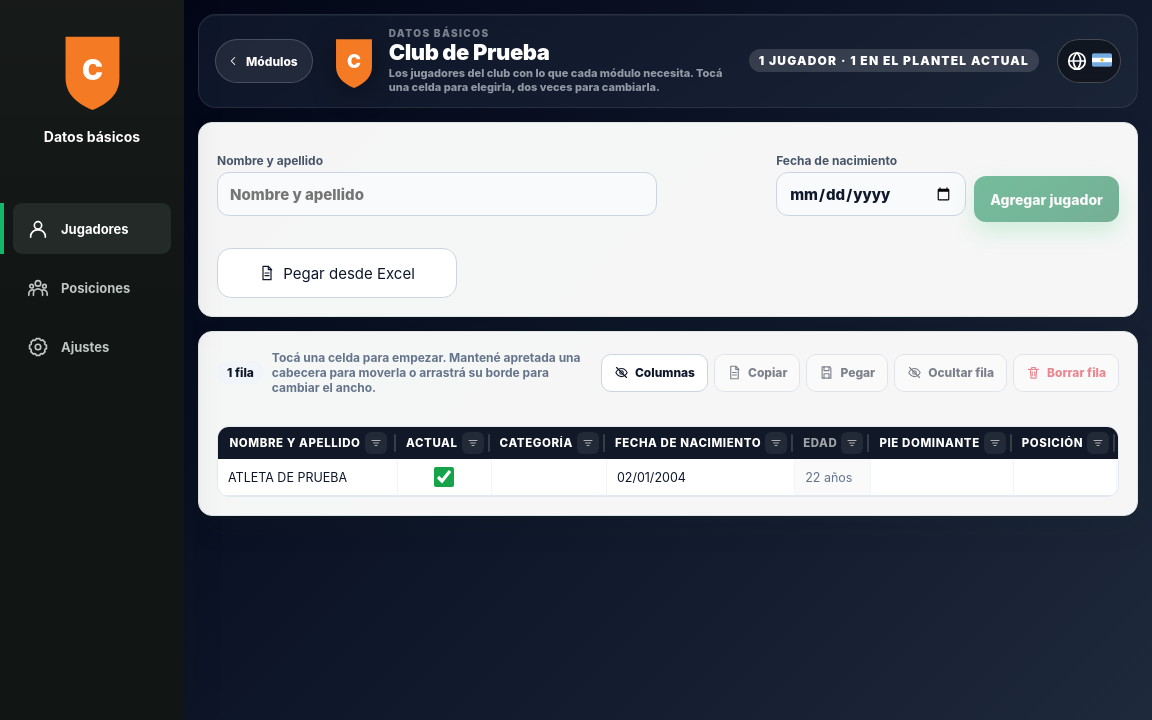
Test: el módulo Datos básicos › Ver ficha: el administrador baja todos los datos de un atleta, en Excel y en JSON; el resto no la ve
Click the cell "ATLETA DE PRUEBA".
click(308, 478)  # box [218,459,398,496]
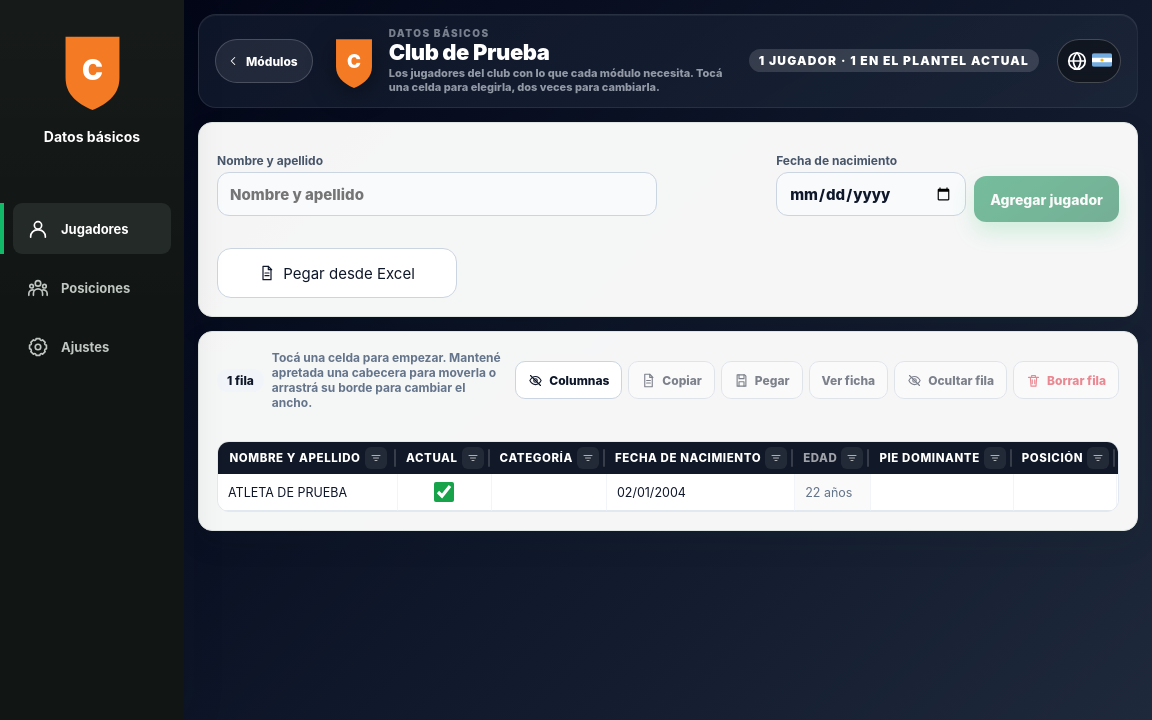
Click the cell "ATLETA DE PRUEBA".
click(308, 493)  # box [218,474,398,511]
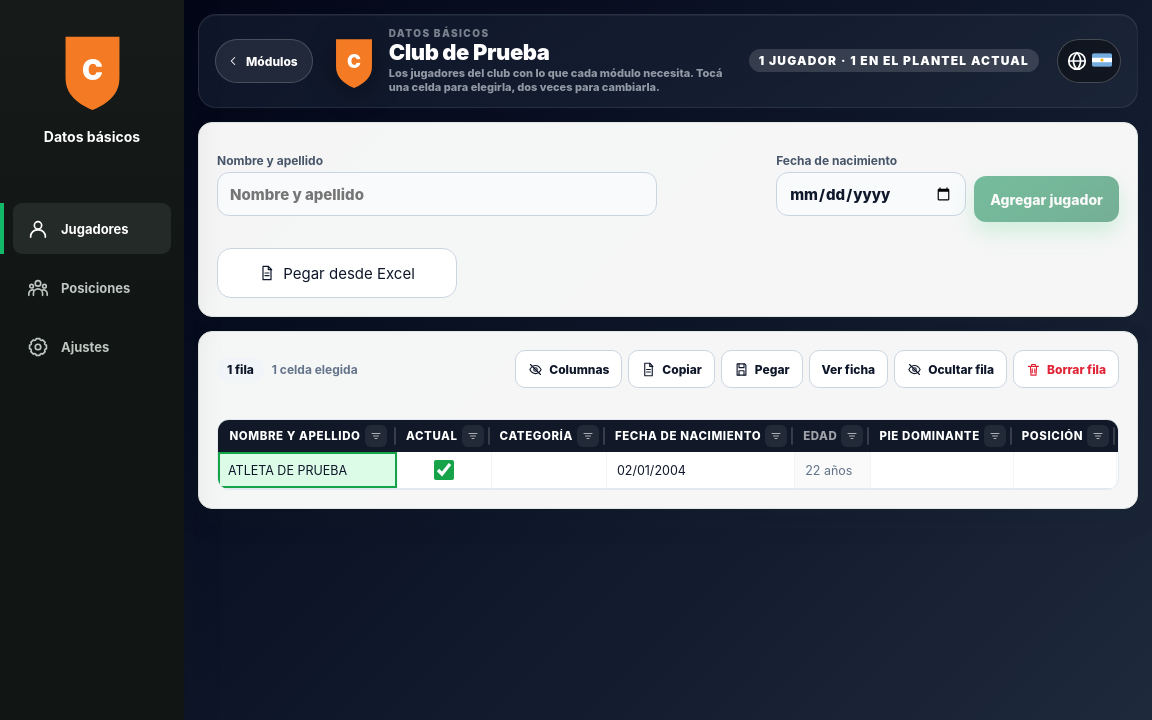
Check: the button "Ver ficha" is shown
Click the button "Ver ficha".
click(848, 369)  # box [808,350,888,388]
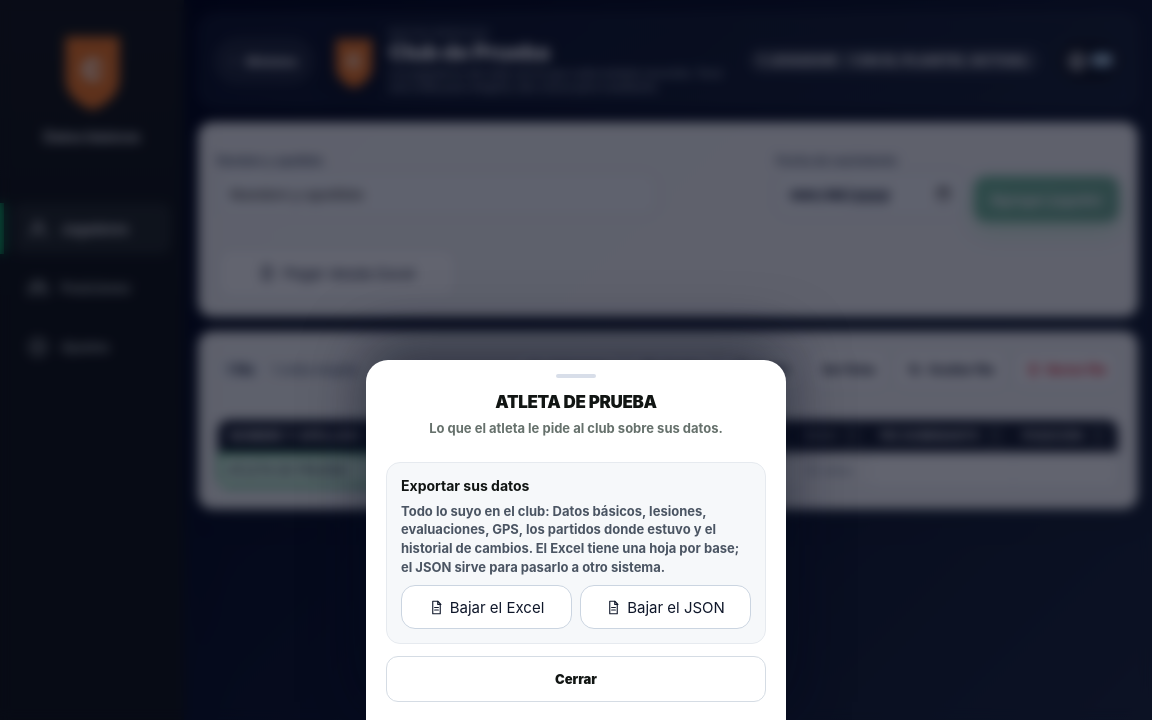
Check: the heading "ATLETA DE PRUEBA" is shown, box [495,392,657,412]
Check: the dialog with class "ficha-atleta" shows "Exportar sus datos", box [401,477,529,494]
Check: the button "Bajar el Excel" is shown
Click the button "Bajar el Excel".
click(486, 607)  # box [401,585,572,629]
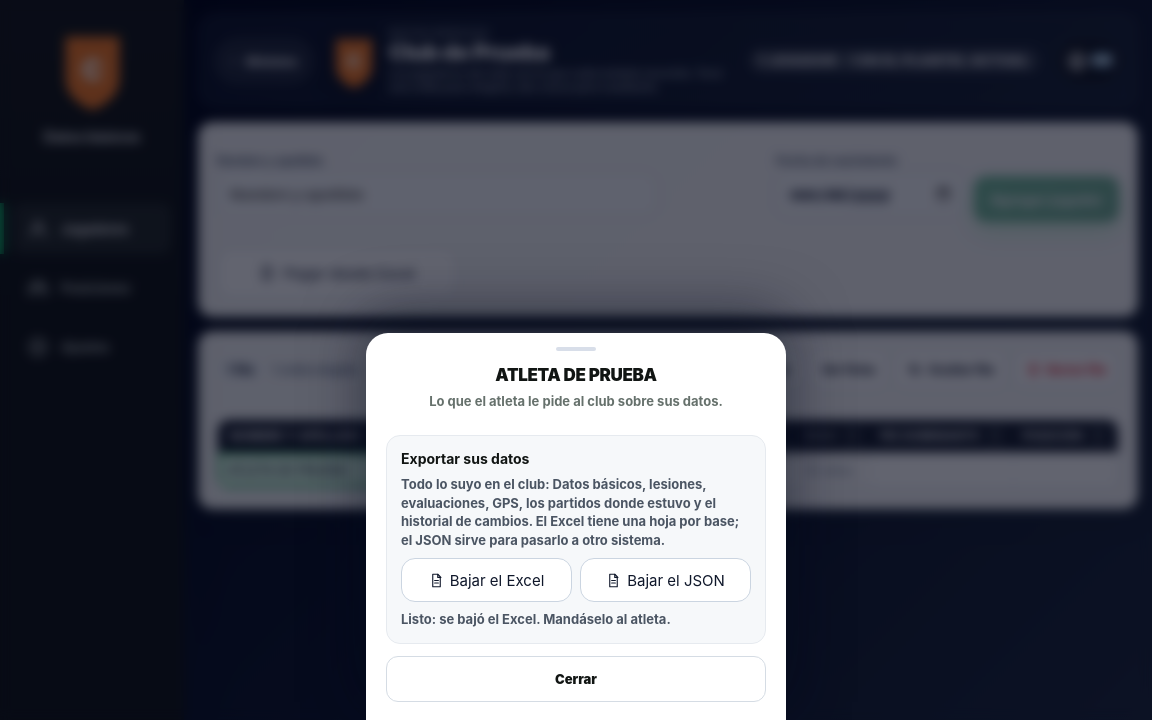
Check: the button "Bajar el JSON" is shown
Check: the dialog with class "ficha-atleta" shows "Listo: se bajó el Excel. Mandáselo al atleta.", box [401,611,671,627]
Click the button "Bajar el JSON".
click(666, 580)  # box [580,558,751,602]
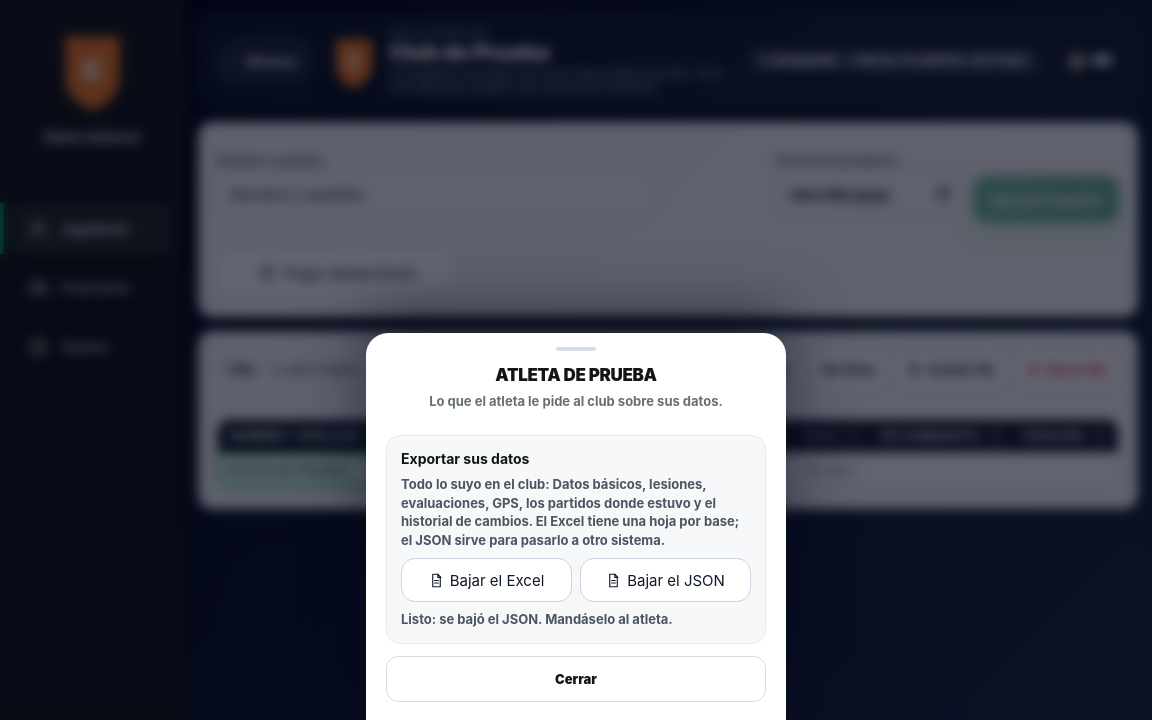
Check: the cell "ATLETA DE PRUEBA" is shown, box [218,452,398,489]
Check: the button "Cerrar" is shown
Click the button "Cerrar".
click(576, 679)  # box [386,656,766,702]
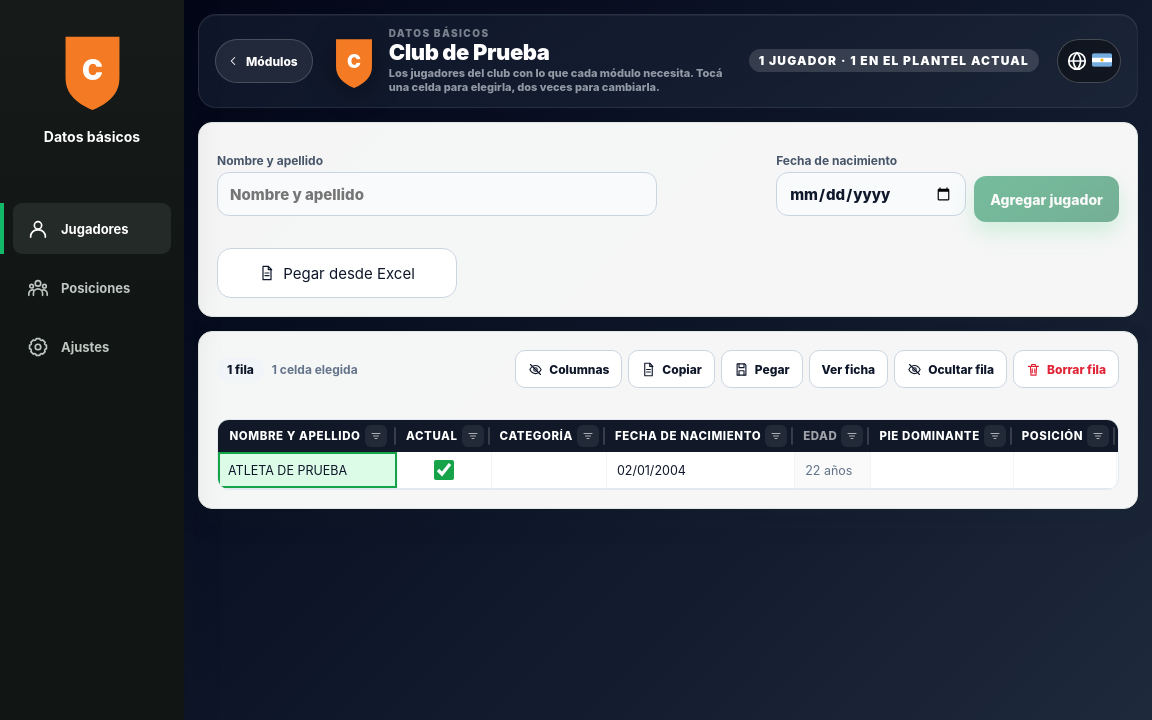
Check: the dialog with class "ficha-atleta" is gone
